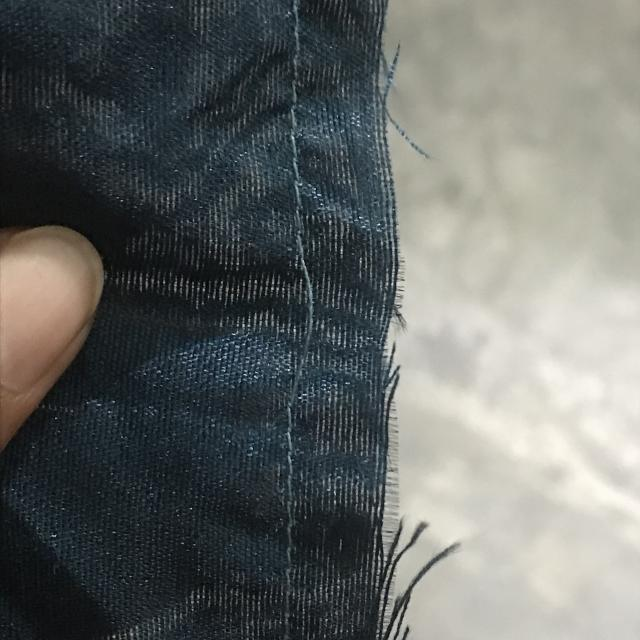skip: (274, 214, 328, 420)
